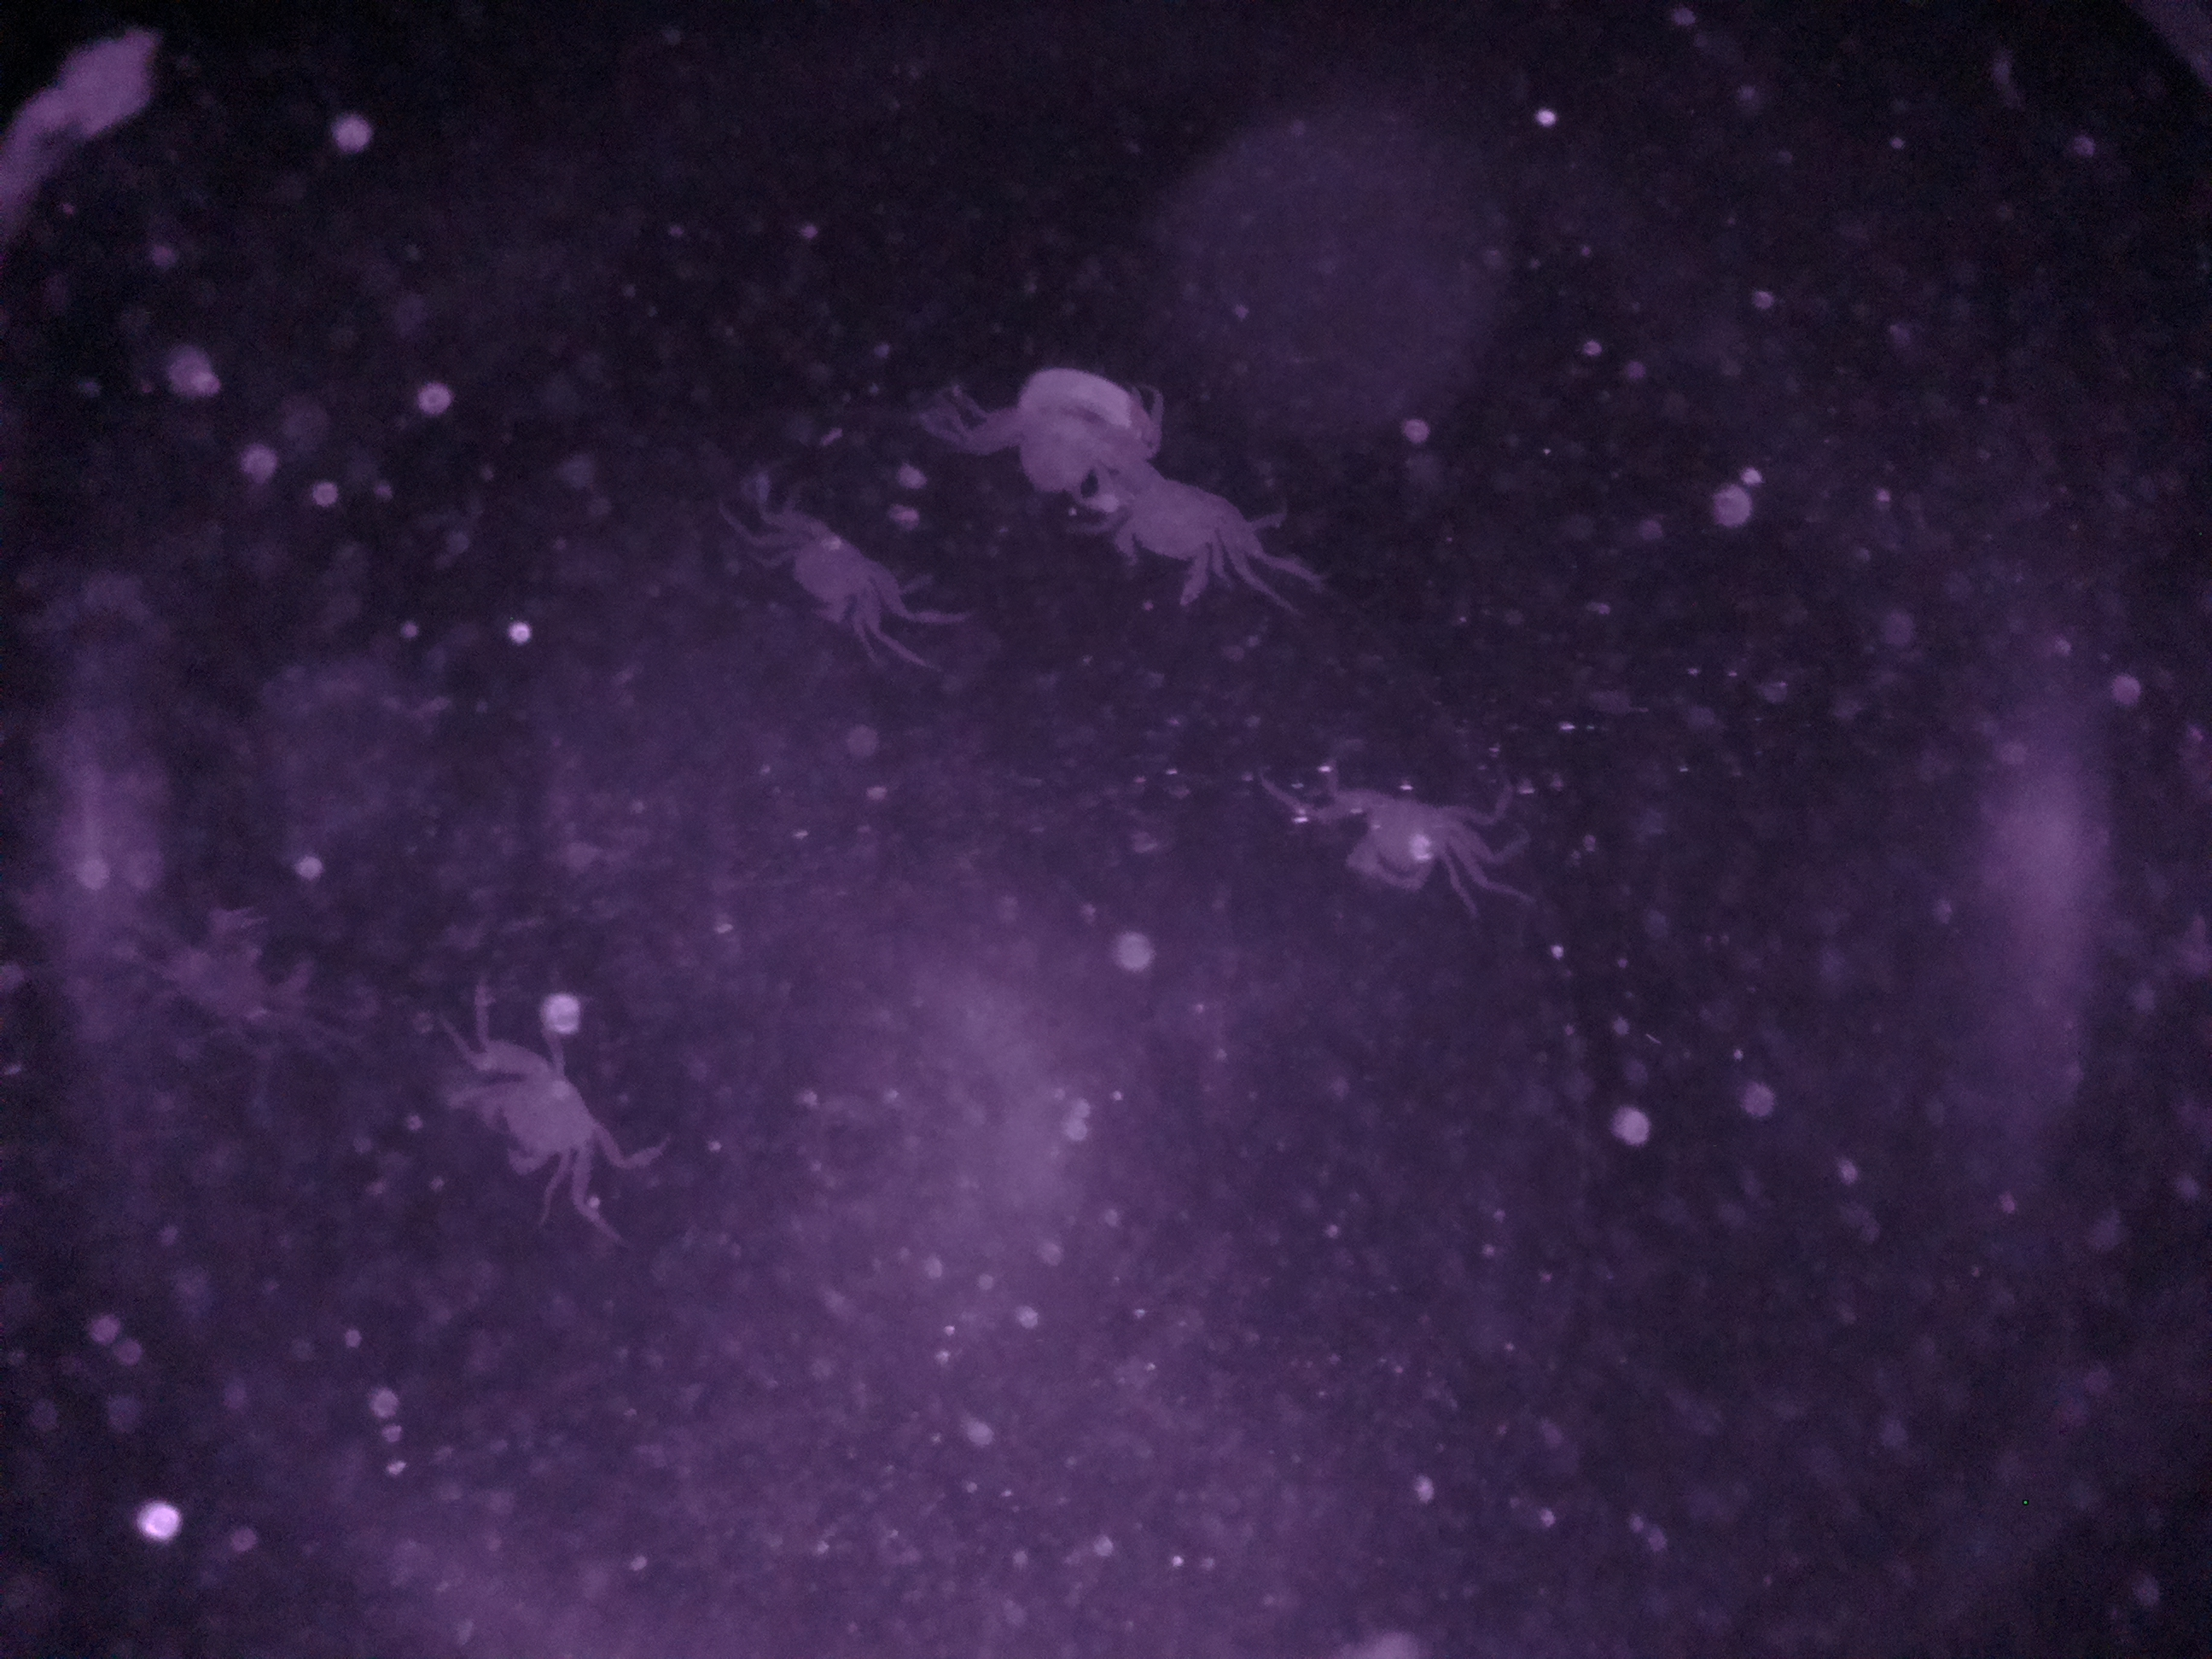Crab: (1275, 753, 1507, 918), (453, 1030, 631, 1208), (751, 498, 934, 652)
